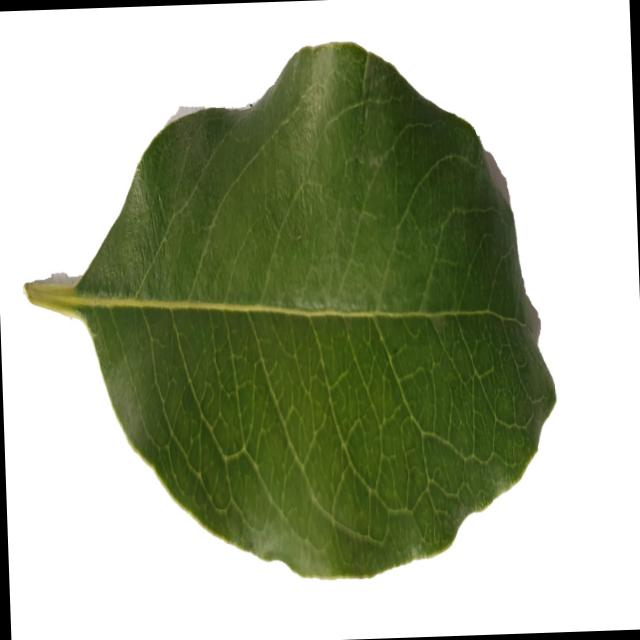Medicinal-Sandalwood: (15, 35, 562, 580)
